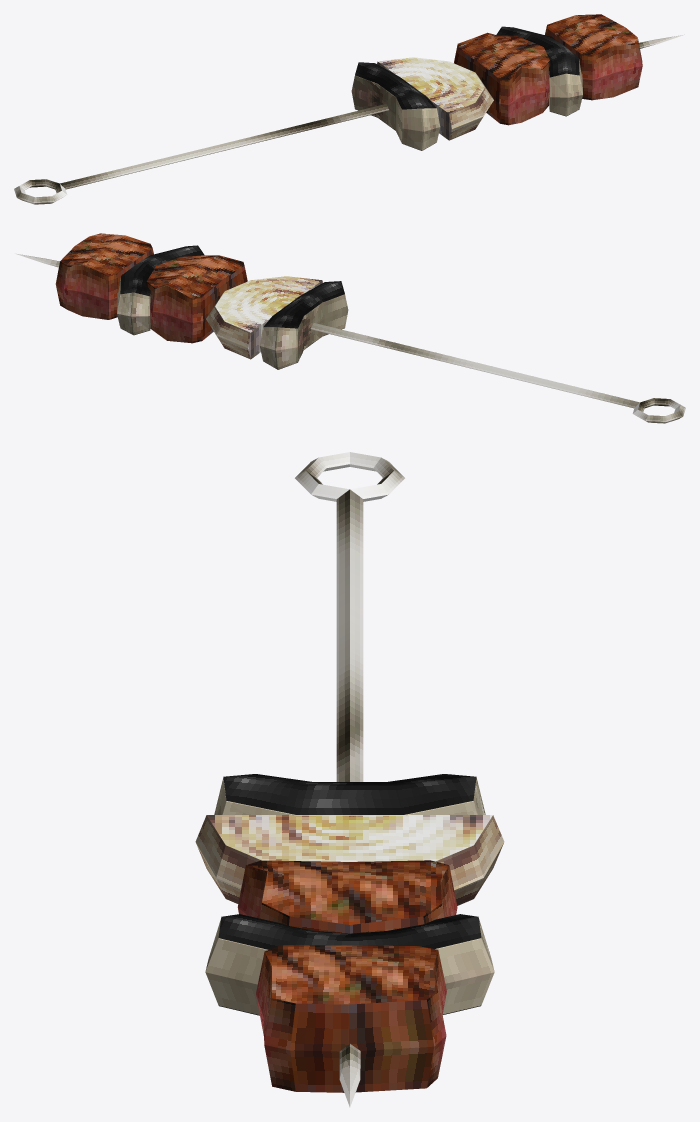
Rendered from arms8040.obj.
3 renders of one model, top to bottom at view 1: azimuth 30°, elevation 25°; view 2: azimuth 150°, elevation 25°; view 3: azimuth 270°, elevation 25°, orthographic. The views are drawn at different scales.
Parts seen in each view (by area): view 1: arms8040; view 2: arms8040; view 3: arms8040.
Boxes of the visible parts, box(x1,y1,x2,y2) form: arms8040: box(14, 14, 684, 204); arms8040: box(15, 233, 685, 423); arms8040: box(195, 452, 504, 1107).
Size of the model in its own units: 4.22 by 0.3384 by 0.8442.
Materials: 2 (2 with a texture image).
